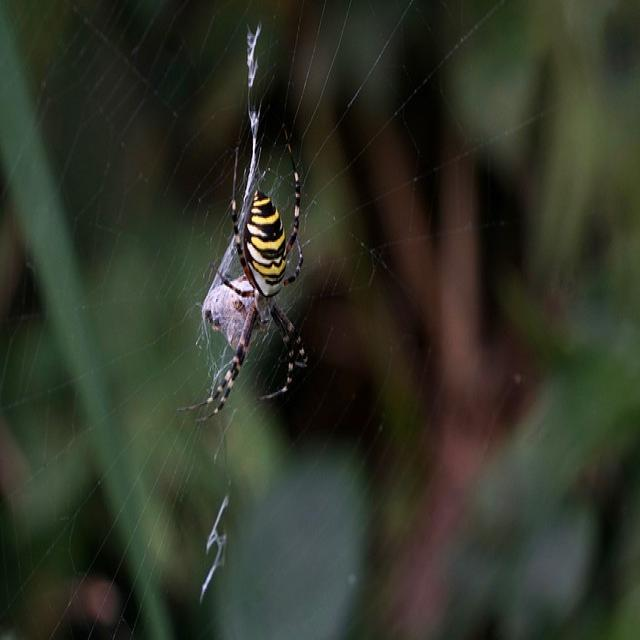spyder: (196, 116, 308, 422)
